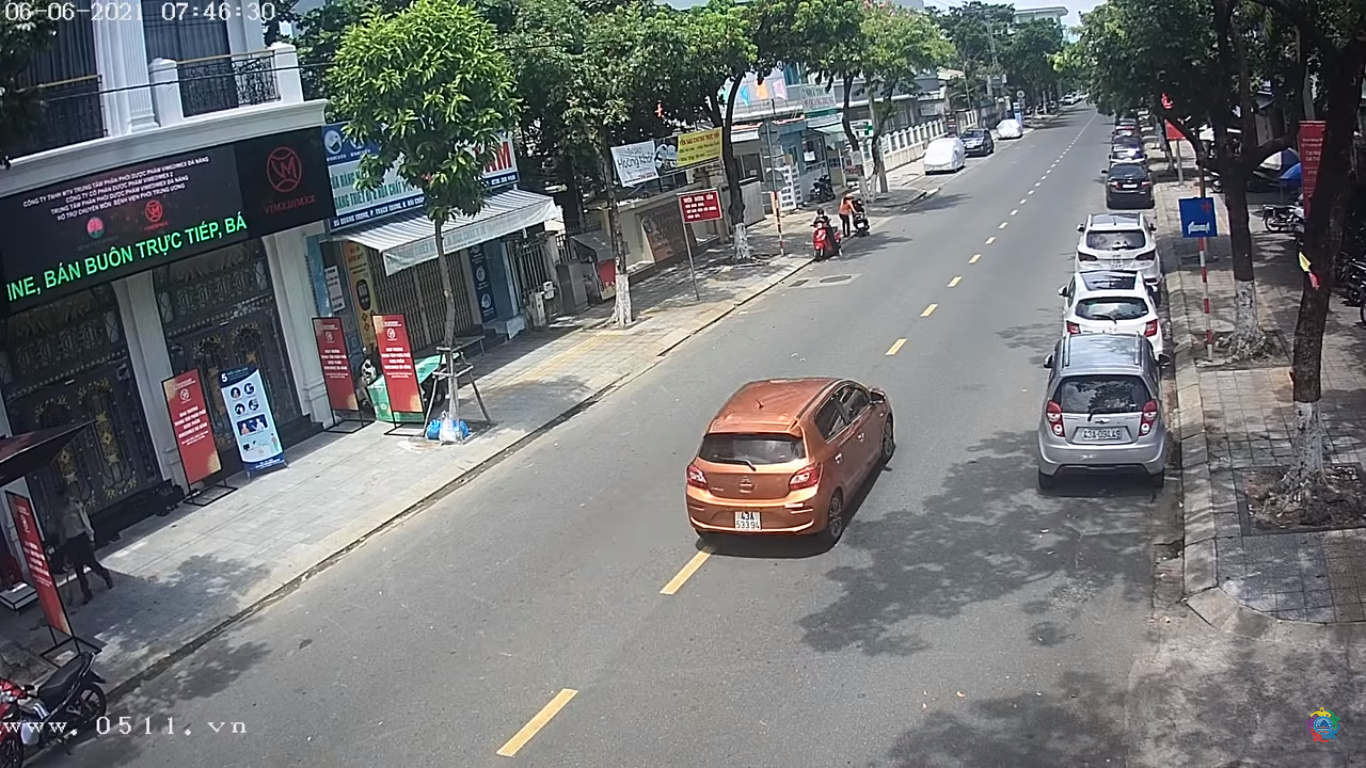car: (682, 375, 897, 548)
